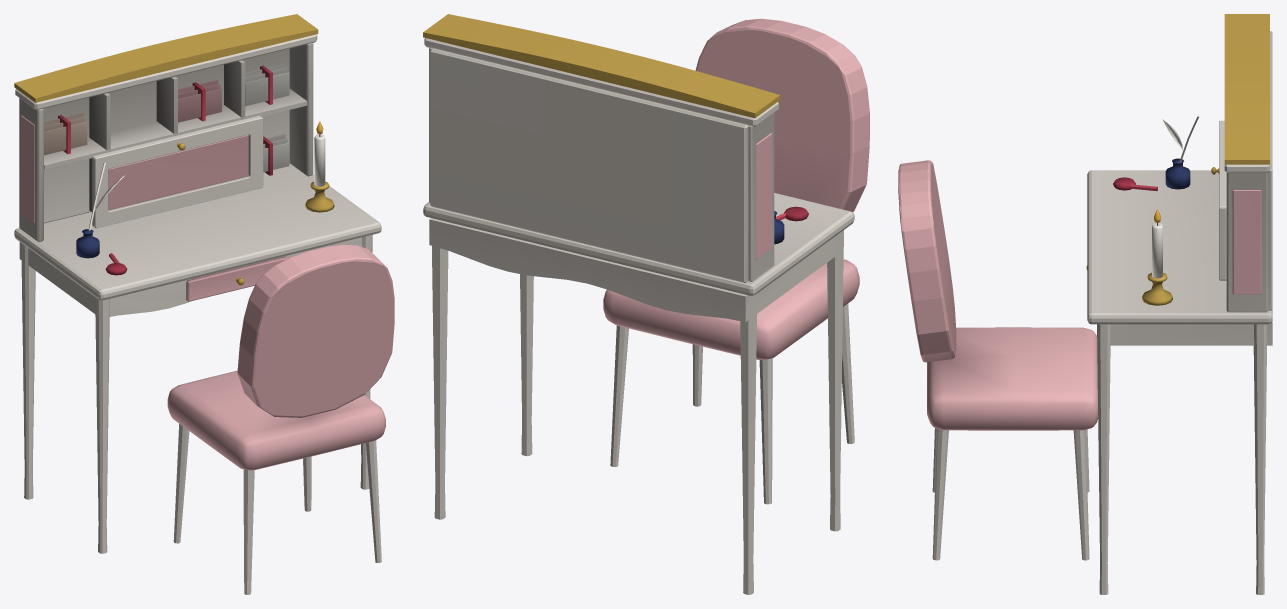
The model's file is letterBureau.glb.
3 views of the same model, side by side, from view 1: azimuth 30°, elevation 25°; view 2: azimuth 150°, elevation 25°; view 3: azimuth 270°, elevation 25° (orthographic). The views are drawn at different scales.
Visible parts, largest first — view 1: body, flap; view 2: body; view 3: body, flap.
Part boxes in pixels (x1,y1,x2,y2): body: (14, 14, 394, 594); flap: (92, 115, 263, 228); body: (423, 14, 869, 594); body: (898, 14, 1272, 594); flap: (1211, 120, 1226, 280).
Bounding box in the file's own units: 0.84 × 1.19 × 0.9097.
